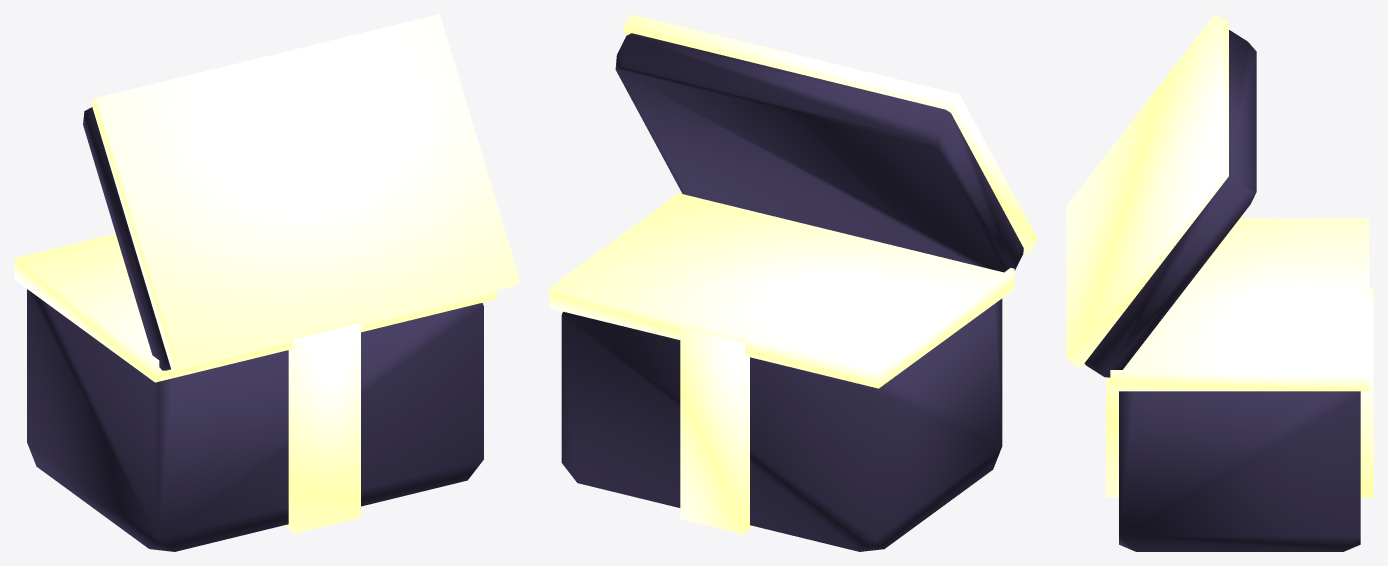
Rendered from STR_Chest_Bundle.glb.
The picture shows the model from 3 angles, left to right: view 1: azimuth 30°, elevation 25°; view 2: azimuth 150°, elevation 25°; view 3: azimuth 270°, elevation 25°; orthographic projection. The views are drawn at different scales.
Parts seen in each view (by area): view 1: lid_trim, base, strap, rim, lid; view 2: base, lid, rim, strap, lid_trim; view 3: base, rim, lid_trim, lid, strap.
Boxes of the visible parts, x1,y1,x2,y2 form: lid_trim: (90,14,520,369); base: (27,289,483,551); strap: (284,323,360,533); rim: (14,233,496,382); lid: (83,107,170,370); base: (561,298,1002,551); lid: (615,33,1023,272); rim: (549,191,1014,388); strap: (680,328,753,533); lid_trim: (623,14,1037,253); base: (1119,391,1360,551); rim: (1110,218,1369,391); lid_trim: (1066,14,1228,368); lid: (1084,30,1256,377); strap: (1106,288,1373,497).
Bounding box in the file's own units: 0.84 × 1 × 0.7121.
